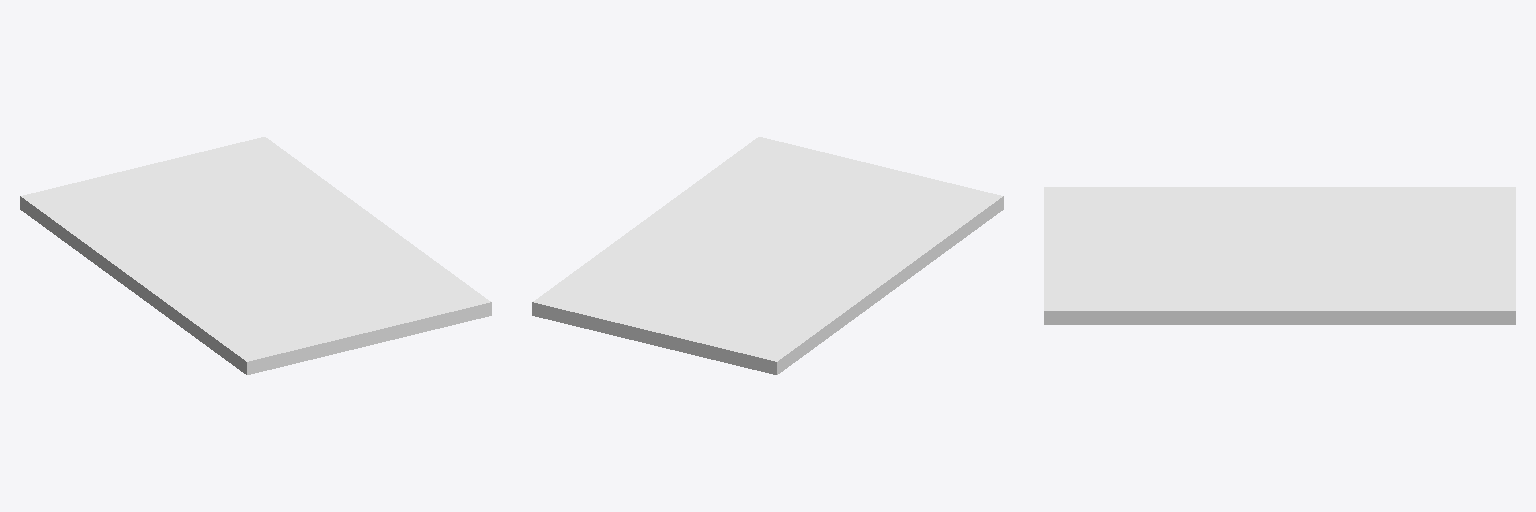
URDF robot description (wall2_10.urdf):
<?xml version="1.0" ?>
<robot name="wall2_10.urdf">
  <link name="baseLink">
    <inertial>
      <origin rpy="0 0 0" xyz="0 0 0"/>
       <mass value="0.0"/>
       <inertia ixx="0" ixy="0" ixz="0" iyy="0" iyz="0" izz="0"/>
    </inertial>
    <visual>
      <origin rpy="0 0 0" xyz="0 0 0"/>
      <geometry>
        <mesh filename="wall2_10.obj" scale="1.0 1.0 1.0"/>
      </geometry>
      <material name="white">
       <color rgba="1 1 1 1"/>
     </material>
    </visual>
    <collision concave="yes">
      <origin rpy="0 0 0" xyz="0 0 0"/>
      <geometry>
        <mesh filename="wall2_10.obj" scale="1.0 1.0 1.0"/>
        <!-- You could also specify the collision (for the wall2_10) with a "box" tag: -->
        <!-- <box size=".06 .06 .06"/> -->
      </geometry>
    </collision>
  </link>
</robot>
        

--- What the picture shows (computed from the rendered views, not written in the file) ---
Views: 3 orthographic renders of the robot side by side, from view 1: azimuth 30°, elevation 25°; view 2: azimuth 150°, elevation 25°; view 3: azimuth 270°, elevation 25°.
Robot: wall2_10.urdf — 1 links, 0 joints (none); root link baseLink; default pose: all joints at 0.
Visible links, largest first — view 1: baseLink; view 2: baseLink; view 3: baseLink.
Link boxes in pixels (x1=…): baseLink: x1=20, y1=137, x2=491, y2=374; baseLink: x1=532, y1=137, x2=1003, y2=374; baseLink: x1=1044, y1=187, x2=1515, y2=324.
Size in the robot's own frame: 1.72 by 2.75 by 0.091 metres.
Meshes: 1 distinct files referenced, 1 mesh visuals loaded (1 OBJ).
